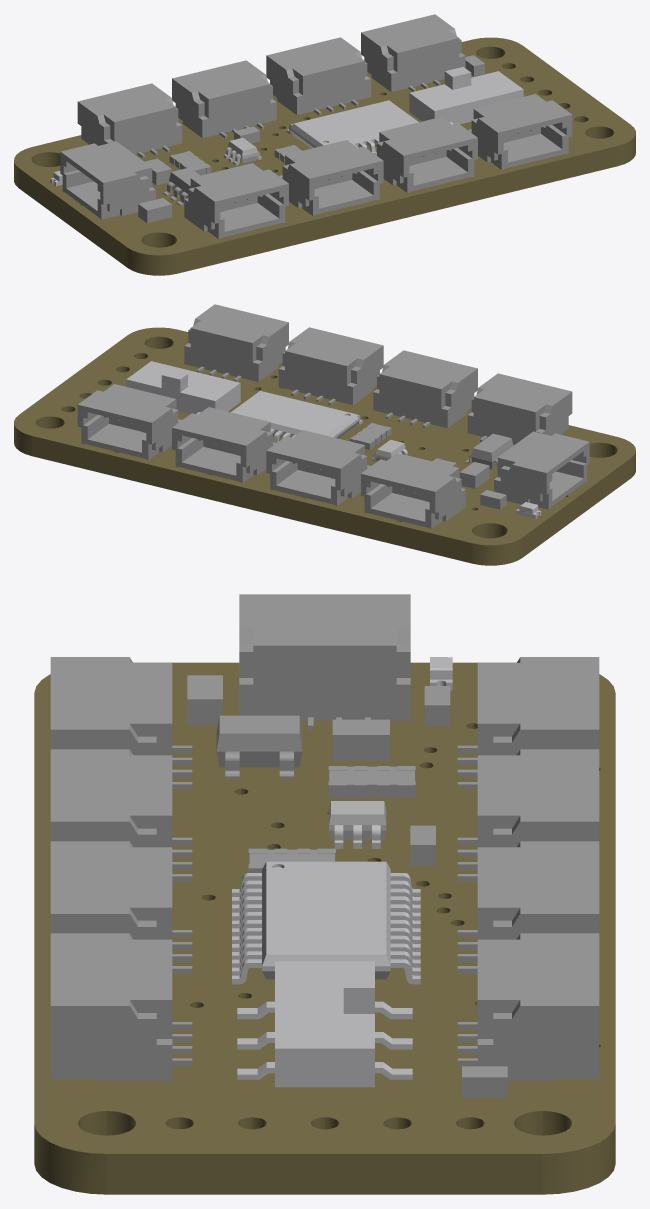
Rendered from ada-5626.glb.
3 renders of one model, top to bottom at view 1: azimuth 30°, elevation 25°; view 2: azimuth 150°, elevation 25°; view 3: azimuth 270°, elevation 25°, orthographic. The views are drawn at different scales.
Parts seen in each view (by area): view 1: 0.3333333333333333_0.3333333333333333_0.3333333333333333_0, 0.16666666666666666_0.16666666666666666_0.08333333333333333_, 0.5833333333333334_0.5833333333333334_0.5833333333333334_0.8, 0.5_0.5_0.5_0.85; view 2: 0.3333333333333333_0.3333333333333333_0.3333333333333333_0, 0.16666666666666666_0.16666666666666666_0.08333333333333333_, 0.5833333333333334_0.5833333333333334_0.5833333333333334_0.8, 0.5_0.5_0.5_0.85; view 3: 0.3333333333333333_0.3333333333333333_0.3333333333333333_0, 0.16666666666666666_0.16666666666666666_0.08333333333333333_, 0.5833333333333334_0.5833333333333334_0.5833333333333334_0.8, 0.5_0.5_0.5_0.85.
Part boxes in pixels (x1,y1,x2,y2): 0.3333333333333333_0.3333333333333333_0.3333333333333333_0: [60, 14, 572, 238]; 0.16666666666666666_0.16666666666666666_0.08333333333333333_: [14, 37, 635, 275]; 0.5833333333333334_0.5833333333333334_0.5833333333333334_0.8: [50, 67, 523, 186]; 0.5_0.5_0.5_0.85: [224, 137, 261, 165]; 0.3333333333333333_0.3333333333333333_0.3333333333333333_0: [77, 304, 589, 528]; 0.16666666666666666_0.16666666666666666_0.08333333333333333_: [14, 327, 635, 565]; 0.5833333333333334_0.5833333333333334_0.5833333333333334_0.8: [126, 361, 541, 518]; 0.5_0.5_0.5_0.85: [372, 439, 407, 461]; 0.3333333333333333_0.3333333333333333_0.3333333333333333_0: [50, 594, 599, 1097]; 0.16666666666666666_0.16666666666666666_0.08333333333333333_: [34, 662, 615, 1194]; 0.5833333333333334_0.5833333333333334_0.5833333333333334_0.8: [232, 657, 452, 1087]; 0.5_0.5_0.5_0.85: [329, 801, 386, 848].
Size of the model in its own units: 4.06 by 0.4529 by 2.03.
